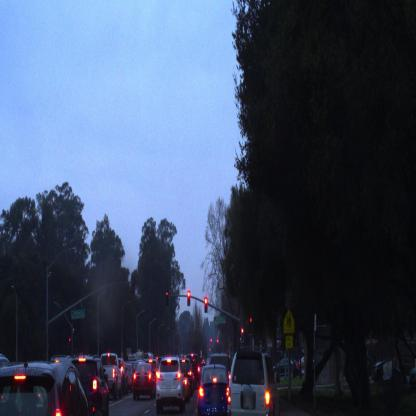car: (0, 358, 94, 416), (228, 350, 276, 416), (69, 359, 109, 416), (155, 355, 188, 415), (196, 364, 230, 415), (98, 354, 123, 398), (132, 360, 157, 400)
sign: (282, 307, 296, 348)
traffic light: (204, 298, 209, 313), (188, 290, 192, 305)
